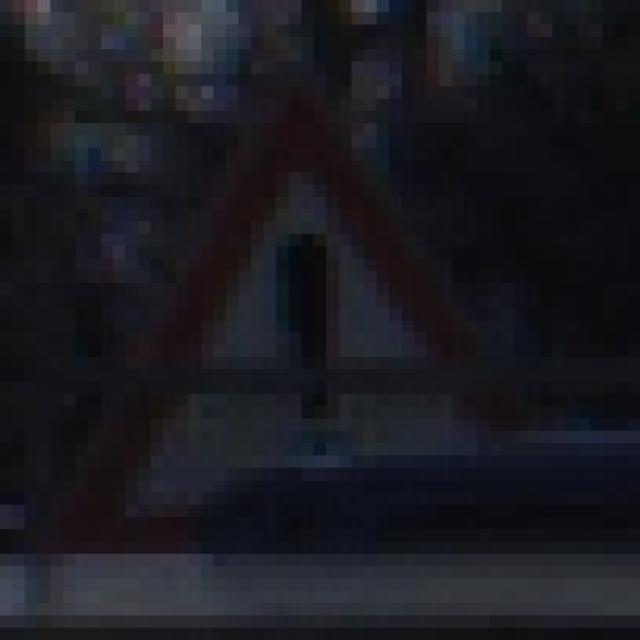Attention Please-: (75, 74, 540, 566)
